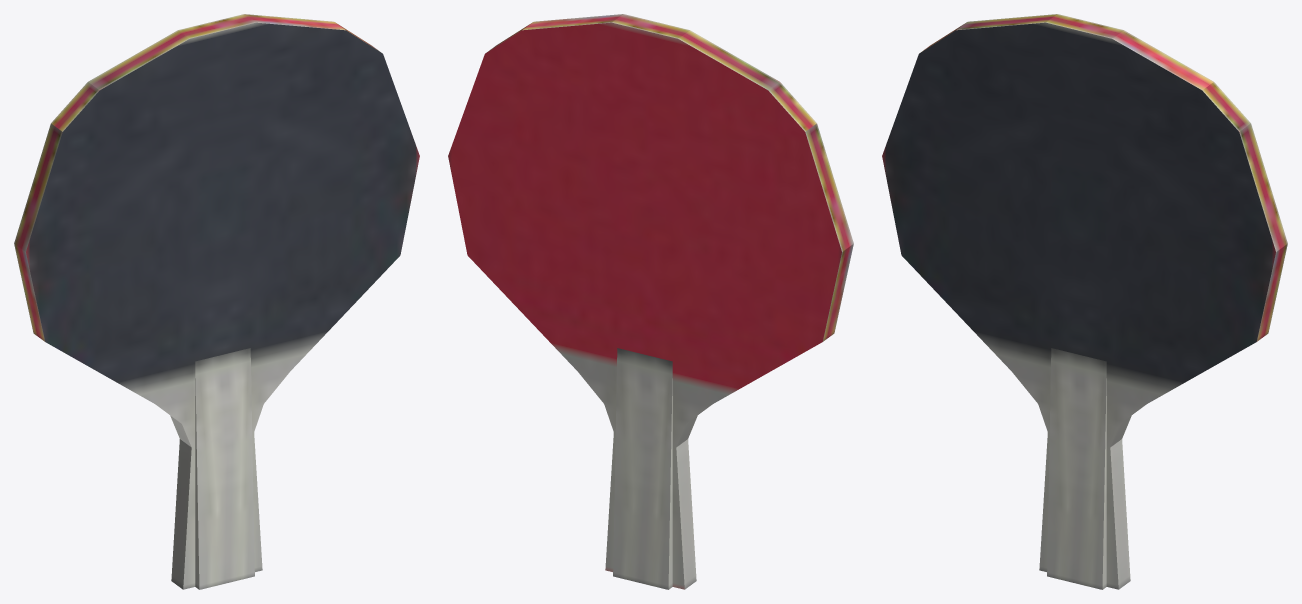
The model's file is TableTennisRacket01.obj.
The picture shows the model from 3 angles, left to right: view 1: azimuth 30°, elevation 25°; view 2: azimuth 150°, elevation 25°; view 3: azimuth 330°, elevation 25°; orthographic projection.
Visible parts, largest first — view 1: TableTennisRacket01; view 2: TableTennisRacket01; view 3: TableTennisRacket01.
Part boxes in pixels (left/top/right/bottom): TableTennisRacket01: left=14, top=14, right=419, bottom=589; TableTennisRacket01: left=448, top=14, right=853, bottom=589; TableTennisRacket01: left=882, top=14, right=1287, bottom=589.
Size of the model in its own units: 0.2342 by 0.3119 by 0.021.
